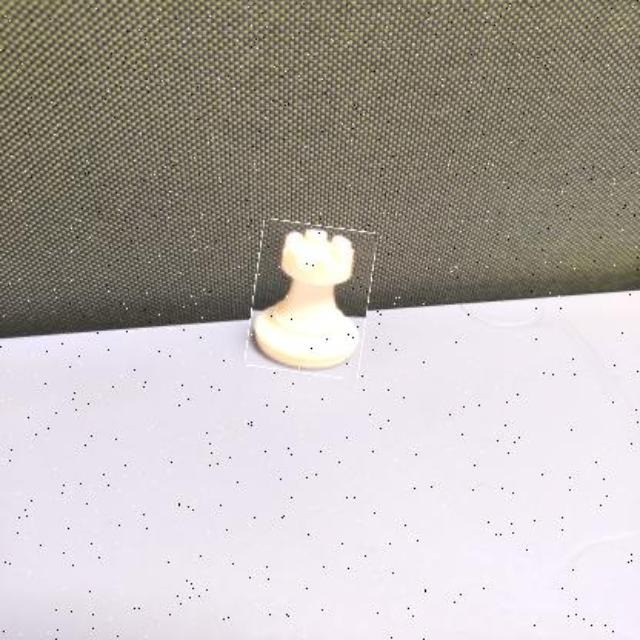white-rook: (249, 223, 372, 376)
